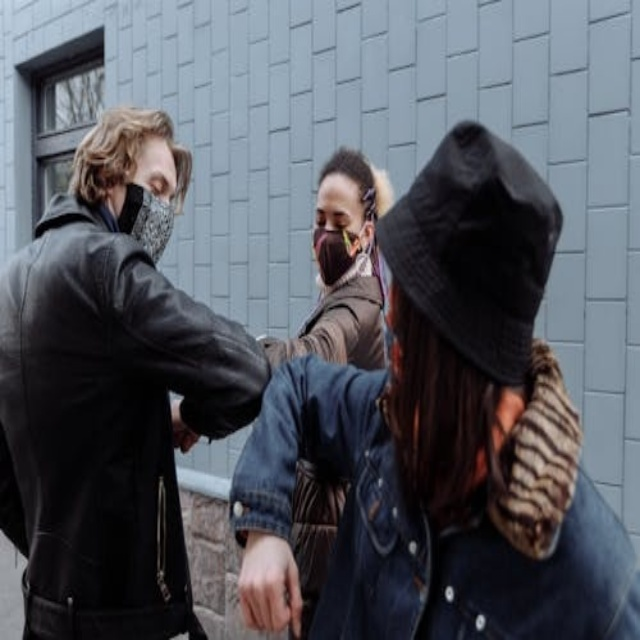Mascara: (123, 185, 176, 267), (314, 218, 368, 286)
Sin_gafas: (138, 163, 179, 204), (312, 194, 355, 229)
Sin_guantes: (236, 530, 307, 632), (171, 397, 201, 454)
